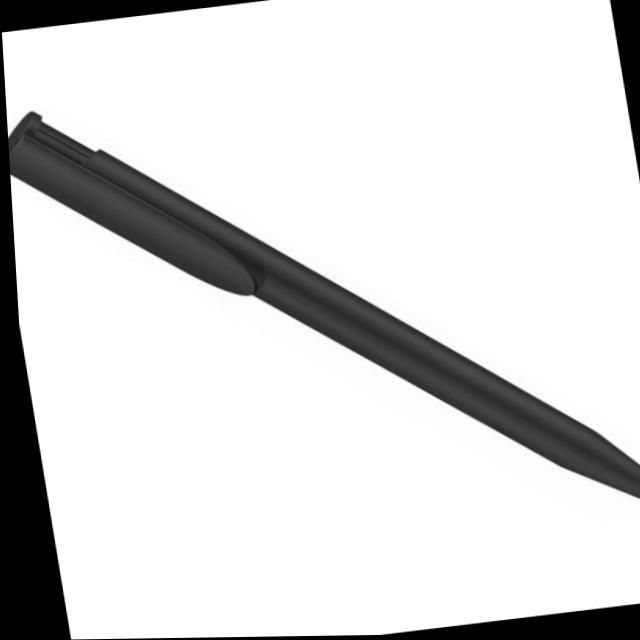pen: (3, 40, 640, 587)
